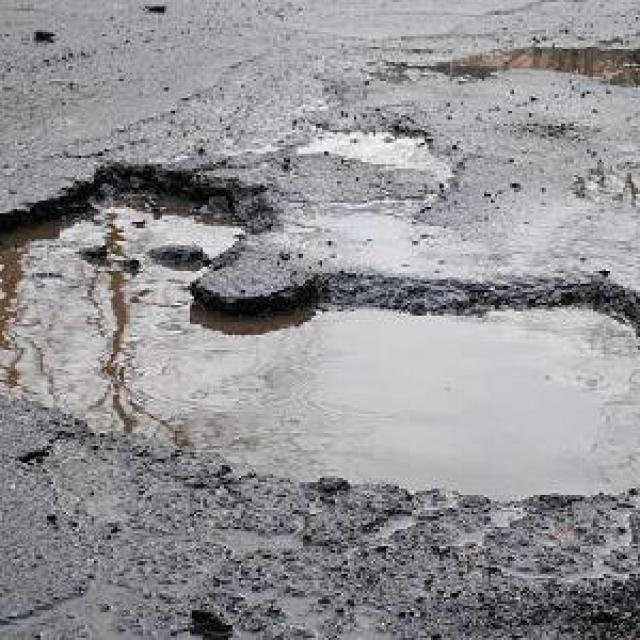pothole: (0, 147, 640, 538), (400, 36, 640, 109), (291, 118, 446, 182)
